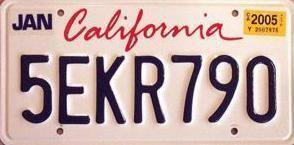placa de veiculo: (3, 1, 290, 139)
